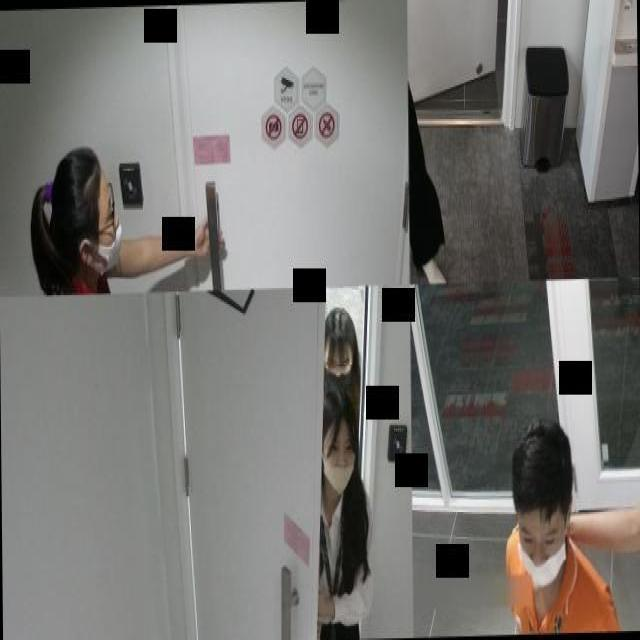hairnet: (520, 512, 564, 588), (91, 176, 122, 274), (324, 432, 356, 494)
